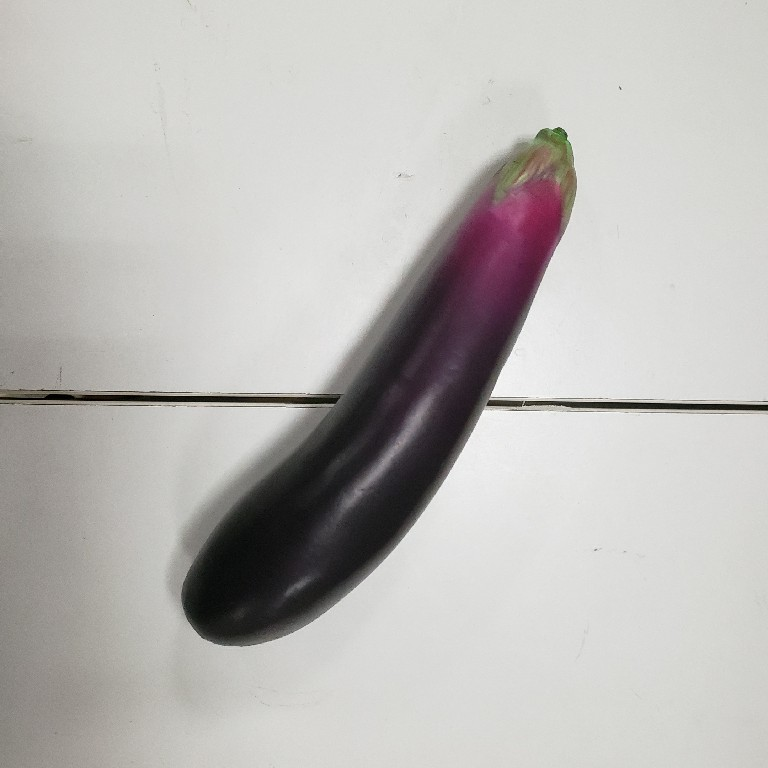fruit_eggplant: (182, 120, 588, 658)
